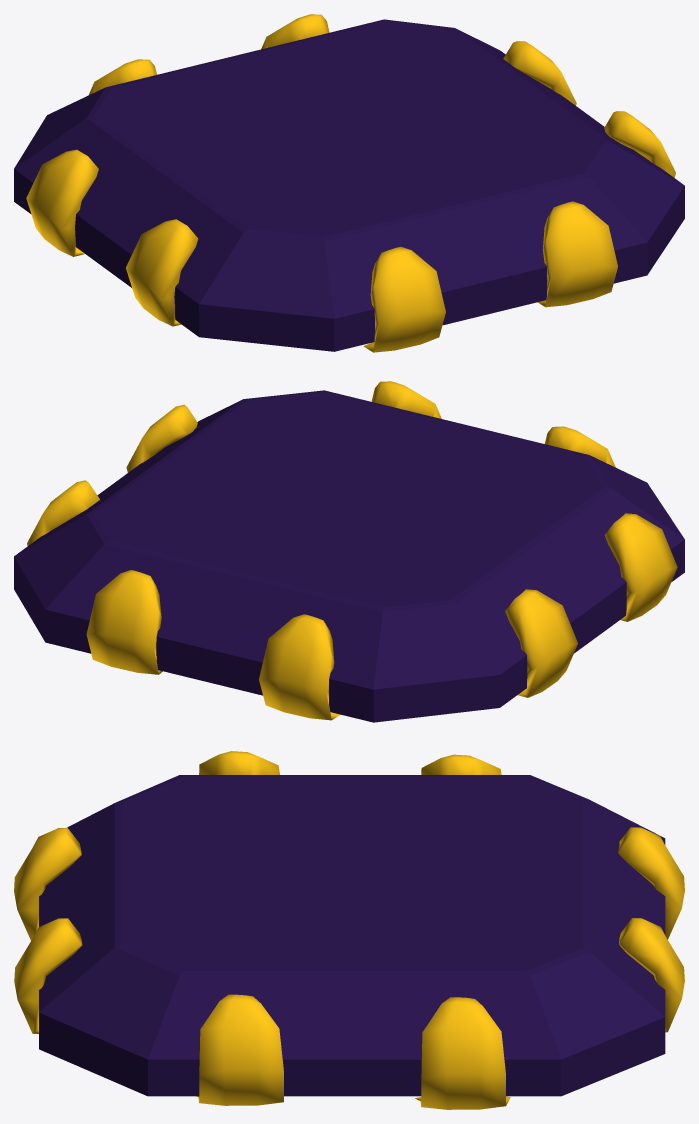
The model's file is dizuo.fbx.
3 renders of one model, top to bottom at view 1: azimuth 30°, elevation 25°; view 2: azimuth 150°, elevation 25°; view 3: azimuth 270°, elevation 25°, orthographic. The views are drawn at different scales.
Visible parts, largest first — view 1: 立方体.218; view 2: 立方体.218; view 3: 立方体.218.
Boxes of the visible parts, left/top/right/bottom form: 立方体.218: left=14, top=14, right=684, bottom=352; 立方体.218: left=14, top=381, right=684, bottom=722; 立方体.218: left=14, top=751, right=684, bottom=1109.
Size of the model in its own units: 121 by 20.26 by 121.
